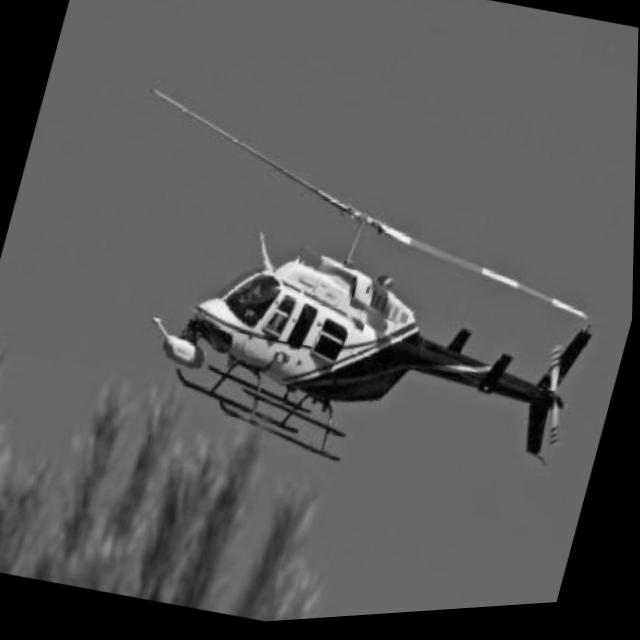helikopter: (55, 49, 639, 543)
